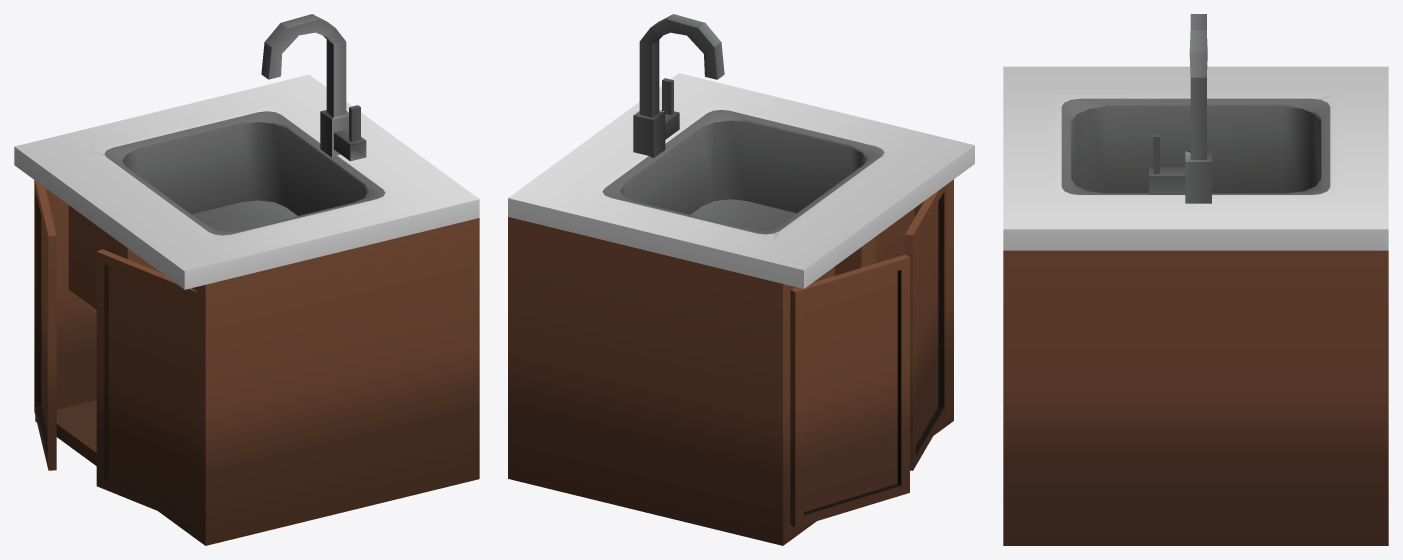
The model's file is ST_Counter_Open.fbx.
3 renders of one model, left to right at view 1: azimuth 30°, elevation 25°; view 2: azimuth 150°, elevation 25°; view 3: azimuth 270°, elevation 25°, orthographic. The views are drawn at different scales.
Parts seen in each view (by area): view 1: ST_Sink; view 2: ST_Sink; view 3: ST_Sink.
Boxes of the visible parts, left/top/right/bottom form: ST_Sink: left=14, top=14, right=479, bottom=545; ST_Sink: left=508, top=14, right=974, bottom=545; ST_Sink: left=1003, top=14, right=1388, bottom=545.
Size of the model in its own units: 82.73 by 99.93 by 73.79.
